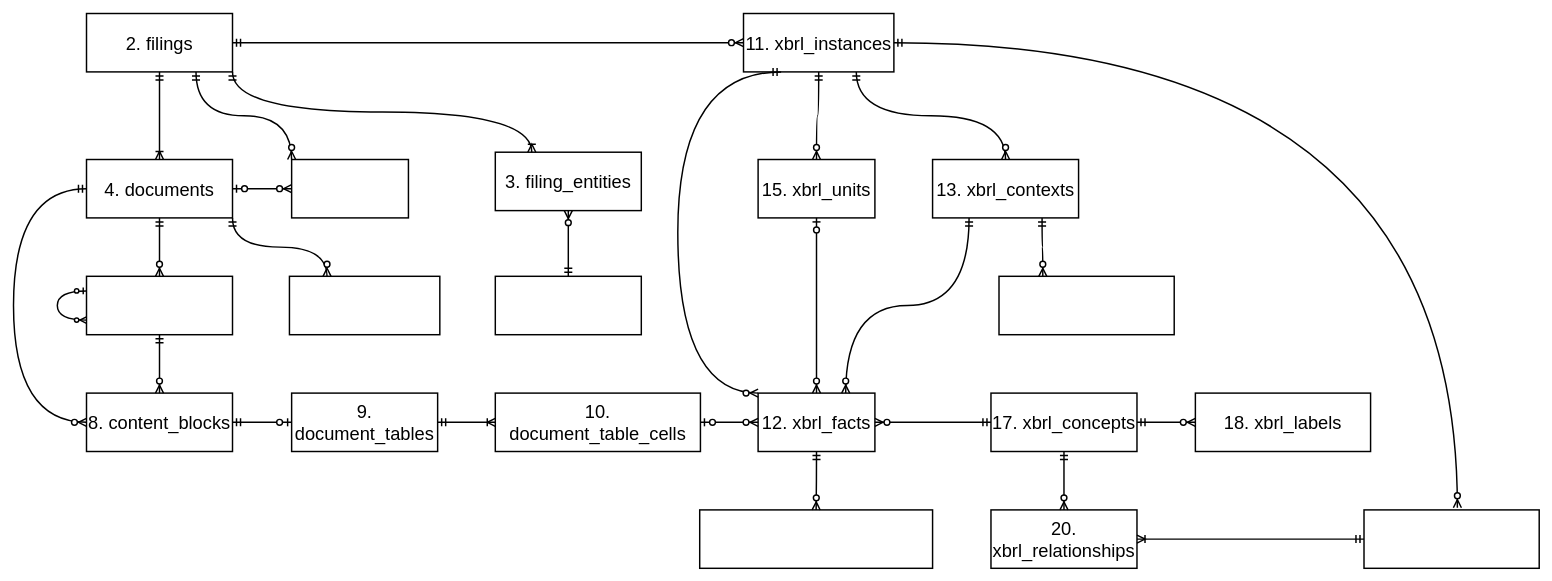
Image size: 1552x581. Some labels were removed from this diagram. Here are the shapes that lost their labels. From the top down, the centre of each, then its label:
At point (350, 188): "5. exhibits".
At point (159, 305): "7. sections".
At point (364, 305): "6. document_links".
At point (568, 305): "1. companies".
At point (1086, 305): "14. xbrl_dimensions".
At point (816, 539): "16. xbrl_fact_footnotes".
At point (1451, 539): "19. xbrl_networks".
